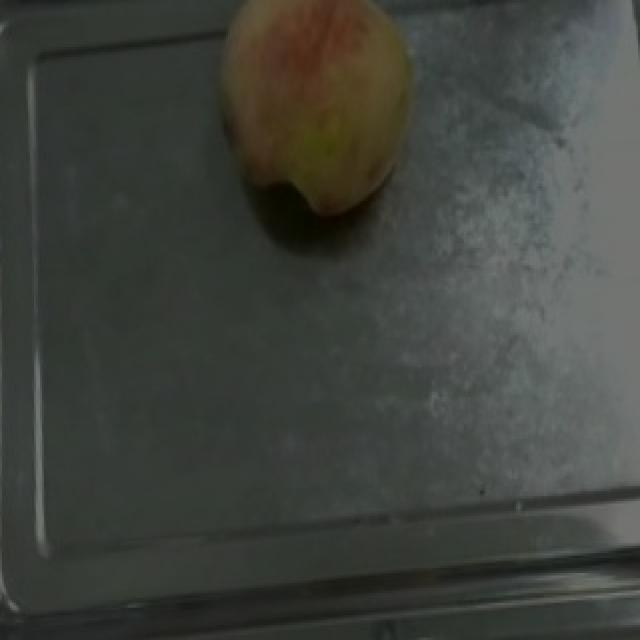Fruit: (192, 0, 444, 231)
